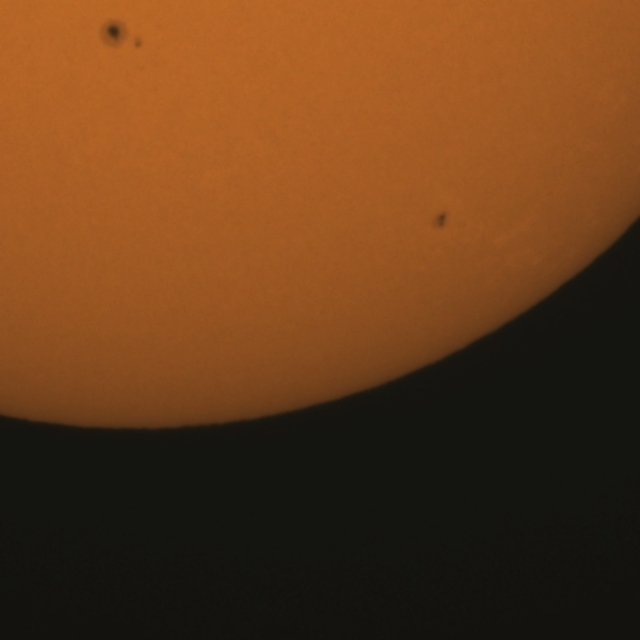sunspot: (104, 20, 145, 50), (432, 210, 468, 232), (104, 21, 124, 47), (433, 209, 449, 231), (132, 35, 144, 51)
